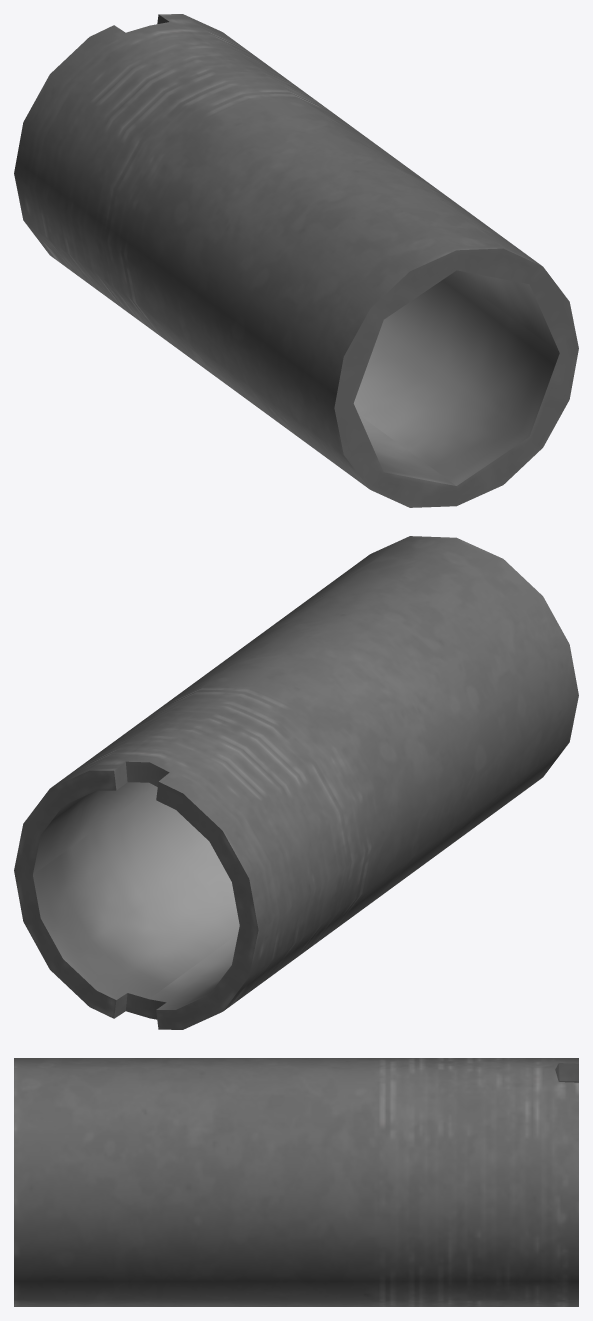
Rendered from IG_Acc_Muzzle_SHT_REC_1.fbx.
The picture shows the model from 3 angles, top to bottom: view 1: azimuth 30°, elevation 25°; view 2: azimuth 150°, elevation 25°; view 3: azimuth 270°, elevation 25°; orthographic projection. The views are drawn at different scales.
Visible parts, largest first — view 1: Muzzle_SHT_REC_1; view 2: Muzzle_SHT_REC_1; view 3: Muzzle_SHT_REC_1.
Part boxes in pixels (x1=…): Muzzle_SHT_REC_1: x1=14, y1=14, x2=578, y2=507; Muzzle_SHT_REC_1: x1=14, y1=536, x2=578, y2=1029; Muzzle_SHT_REC_1: x1=14, y1=1058, x2=578, y2=1306.
Size of the model in its own units: 0.0573 by 0.0573 by 0.1301.
